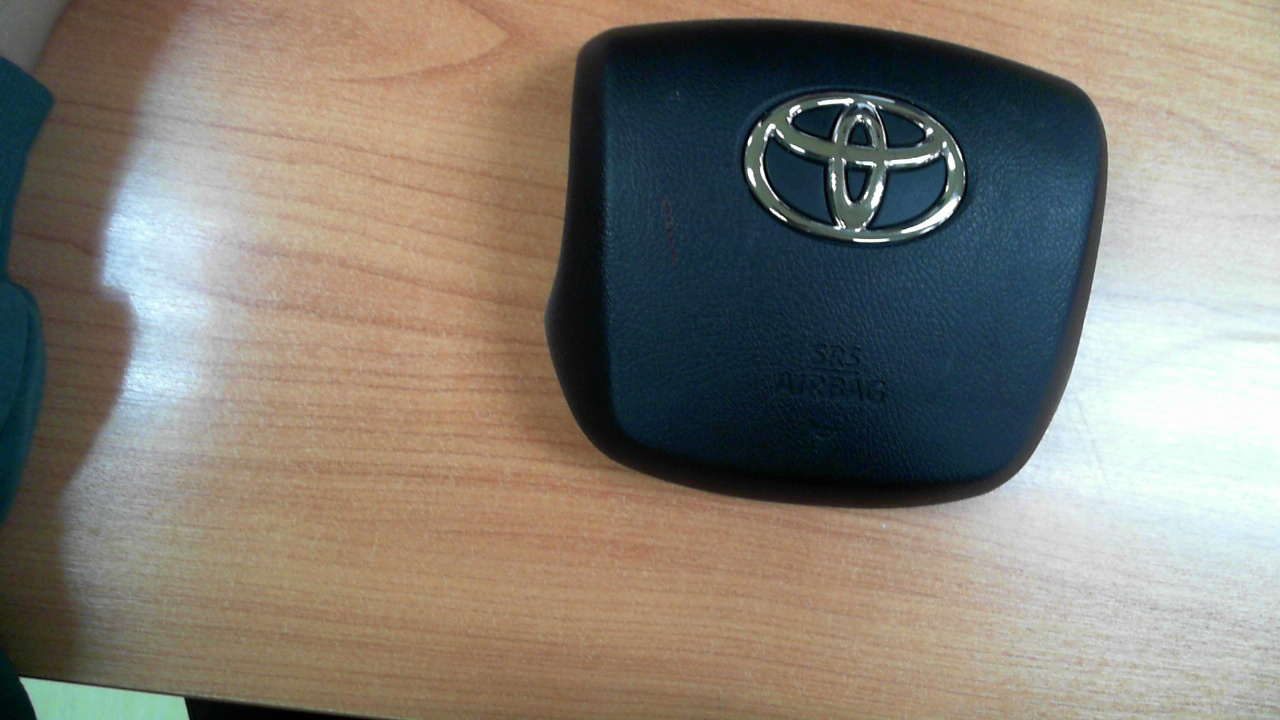Airbag: (544, 13, 1117, 507)
Toyota: (744, 92, 966, 243)
